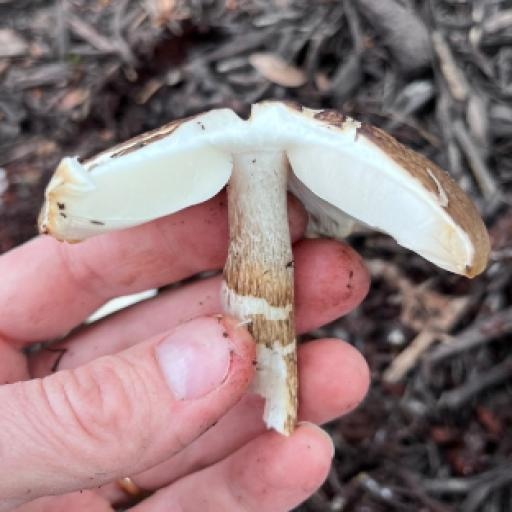Shiitake Mushroom: (28, 0, 498, 444)
